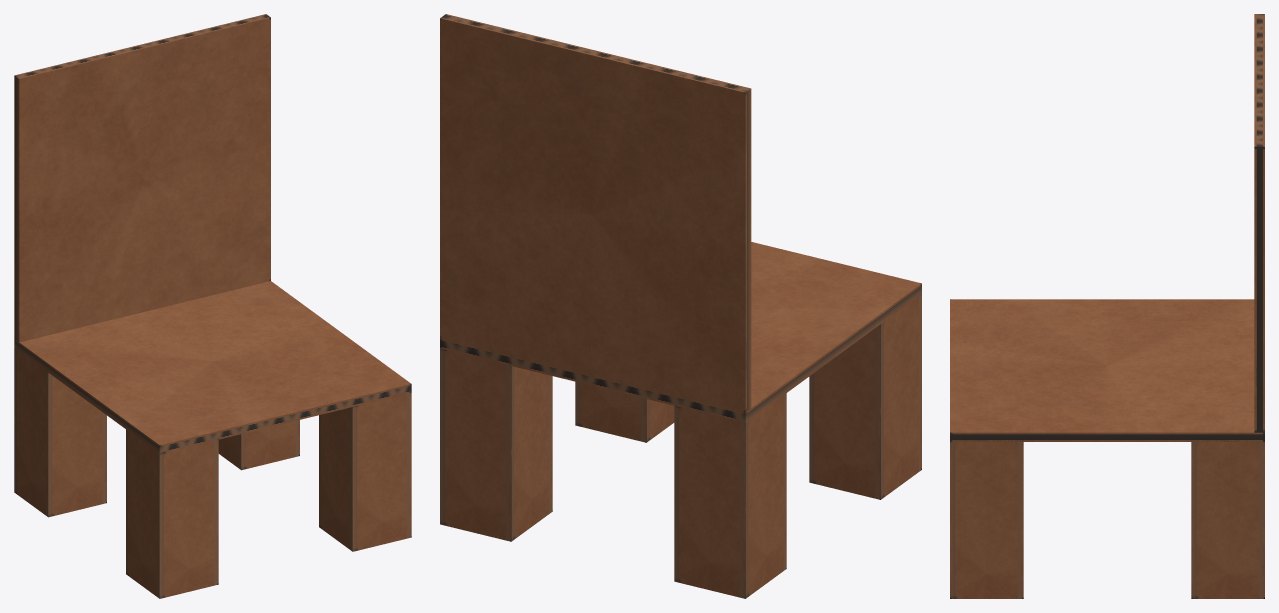
File: cardboard_chair.glb
3 views of the same model, side by side, from view 1: azimuth 30°, elevation 25°; view 2: azimuth 150°, elevation 25°; view 3: azimuth 270°, elevation 25° (orthographic). The views are drawn at different scales.
Parts seen in each view (by area): view 1: Leg.002; view 2: Leg.002; view 3: Leg.002.
Part boxes in pixels (box(x1,y1,x2,y2)): Leg.002: box(14, 14, 411, 598); Leg.002: box(440, 14, 921, 598); Leg.002: box(950, 14, 1264, 598).
Bounding box in the file's own units: 0.6 × 0.95 × 0.6.
1 material, 1 textured.
